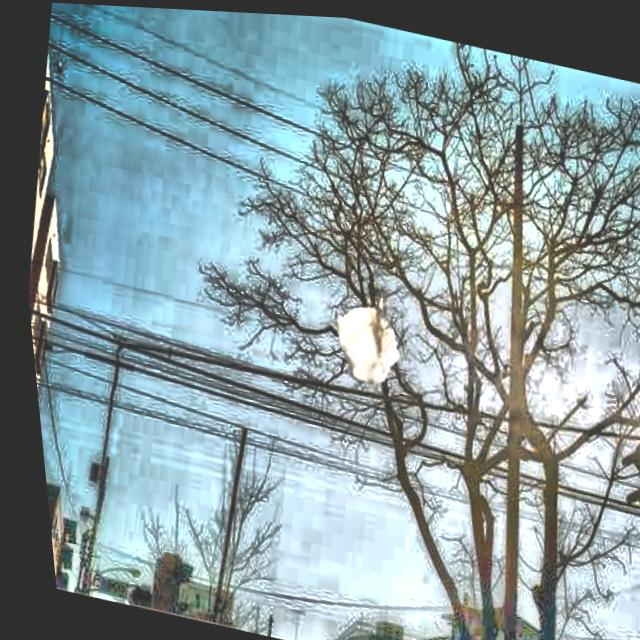Plastic: (315, 285, 424, 401)
